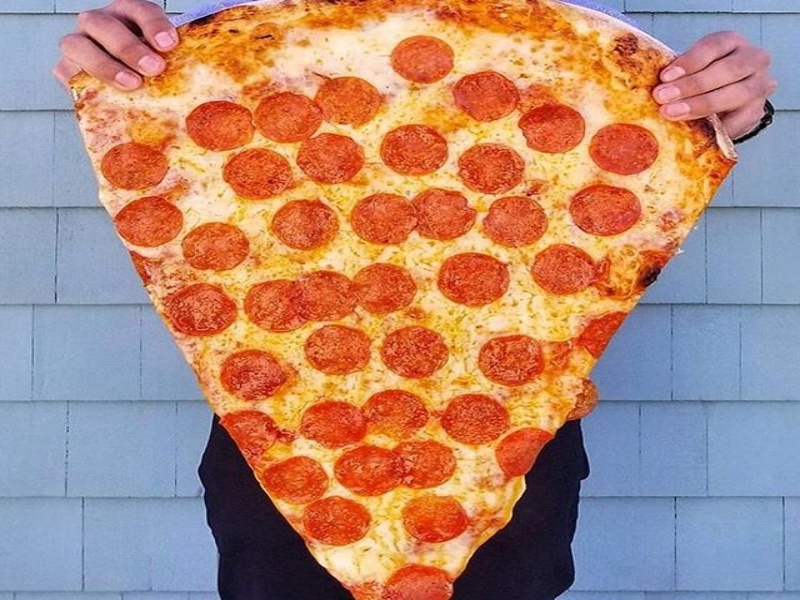peperoni: (377, 321, 450, 384), (298, 323, 372, 384), (437, 251, 511, 311), (293, 133, 366, 191), (271, 195, 341, 255), (217, 346, 290, 403), (100, 139, 169, 198), (167, 282, 238, 339), (181, 218, 250, 276), (587, 124, 661, 178), (221, 147, 292, 203), (482, 194, 549, 253), (114, 192, 184, 248), (260, 456, 330, 511), (379, 124, 449, 179), (354, 389, 429, 440), (349, 189, 417, 245), (441, 392, 510, 447), (456, 139, 525, 194), (402, 492, 469, 548), (333, 445, 406, 496), (314, 77, 381, 132), (304, 494, 373, 547), (352, 263, 416, 320), (253, 91, 321, 144), (519, 103, 587, 156), (530, 244, 595, 298), (186, 101, 253, 153), (413, 188, 477, 242), (477, 333, 540, 387), (572, 185, 640, 235), (387, 441, 455, 490), (296, 271, 356, 326), (452, 72, 519, 121), (390, 36, 454, 87), (245, 278, 306, 331), (303, 401, 365, 450)
